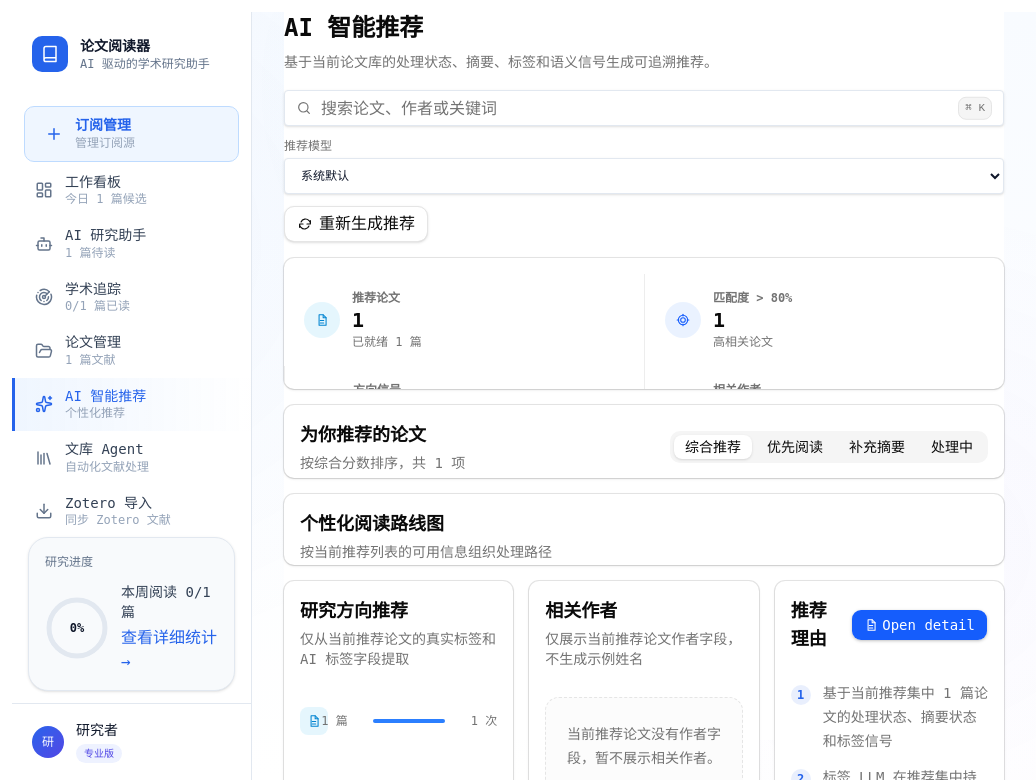
Test case: recommendation action still opens the library detail route
Click the button "Open detail": (920, 625) [851,609,988,641]
(page scrolled)
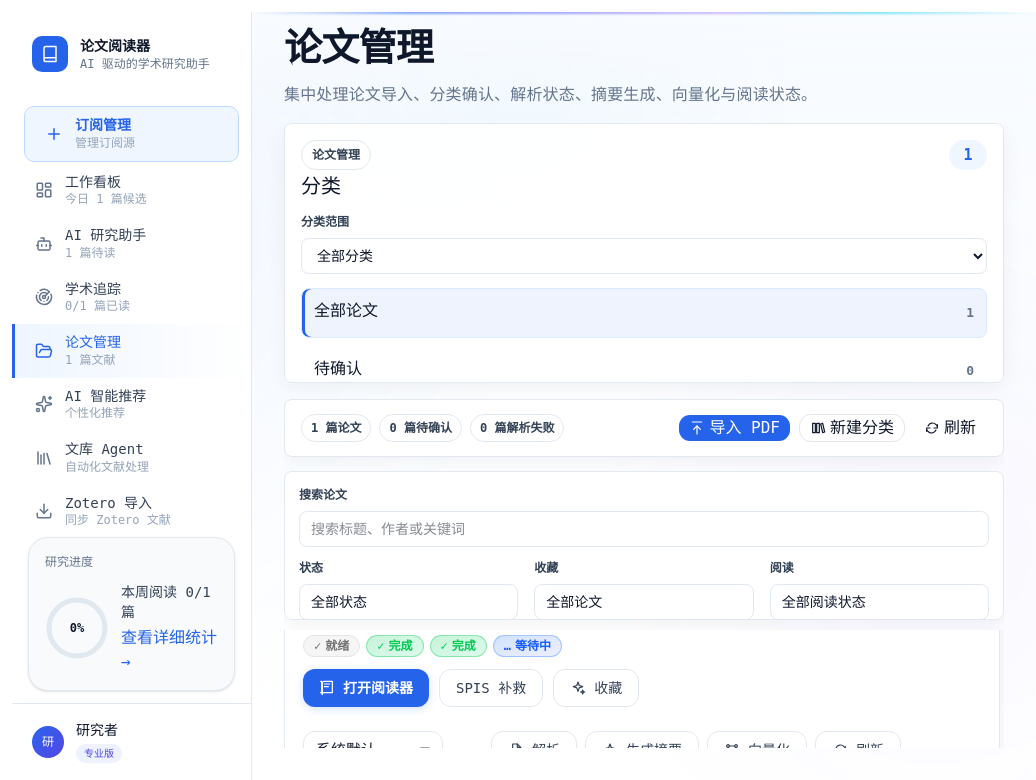
Expected: the heading "论文管理" is shown, [284,20,433,77]
Expected: the button "打开阅读器" is shown, [303,669,429,707]
